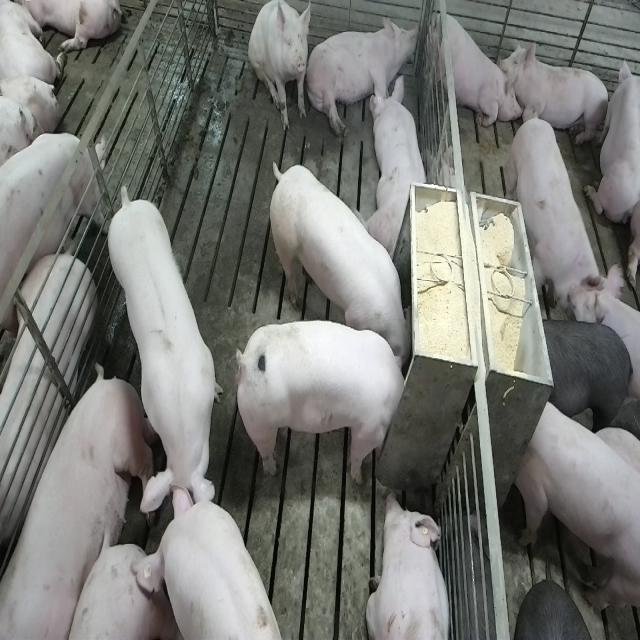Feeding: (263, 160, 412, 369), (231, 318, 408, 484)
Lateral_lying: (4, 366, 165, 640), (305, 12, 419, 137)
Sitting: (426, 4, 514, 136), (248, 1, 312, 133)
Standing: (104, 189, 220, 538), (515, 395, 638, 620), (0, 125, 106, 352), (511, 106, 607, 321), (148, 492, 285, 640), (542, 316, 636, 441)
Sternal_lying: (366, 490, 452, 640), (367, 71, 431, 258), (506, 39, 611, 150), (585, 54, 637, 230)
